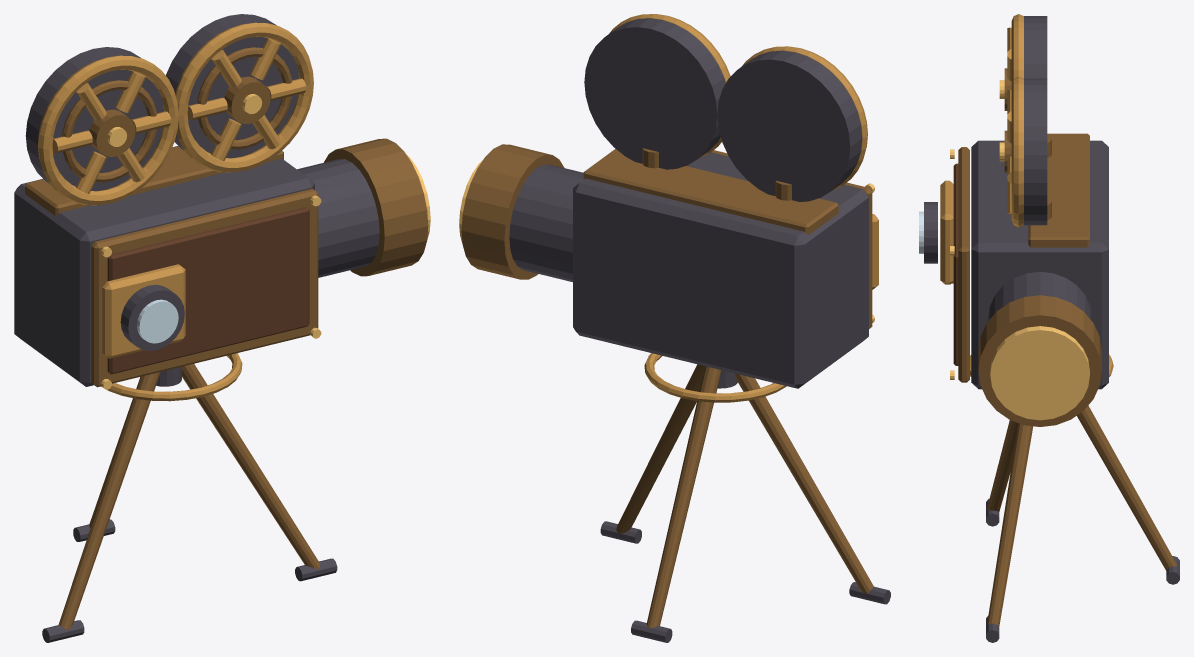
The model's file is SM_Stage3_ArchiveCamera.fbx.
The picture shows the model from 3 angles, left to right: view 1: azimuth 30°, elevation 25°; view 2: azimuth 150°, elevation 25°; view 3: azimuth 270°, elevation 25°; orthographic projection. The views are drawn at different scales.
Parts seen in each view (by area): view 1: SM_Stage3_ArchiveCamera; view 2: SM_Stage3_ArchiveCamera; view 3: SM_Stage3_ArchiveCamera.
Part boxes in pixels (x1,y1,x2,y2): SM_Stage3_ArchiveCamera: [14, 14, 430, 642]; SM_Stage3_ArchiveCamera: [459, 14, 890, 642]; SM_Stage3_ArchiveCamera: [919, 14, 1179, 642].
Size of the model in its own units: 176 by 110 by 244.
